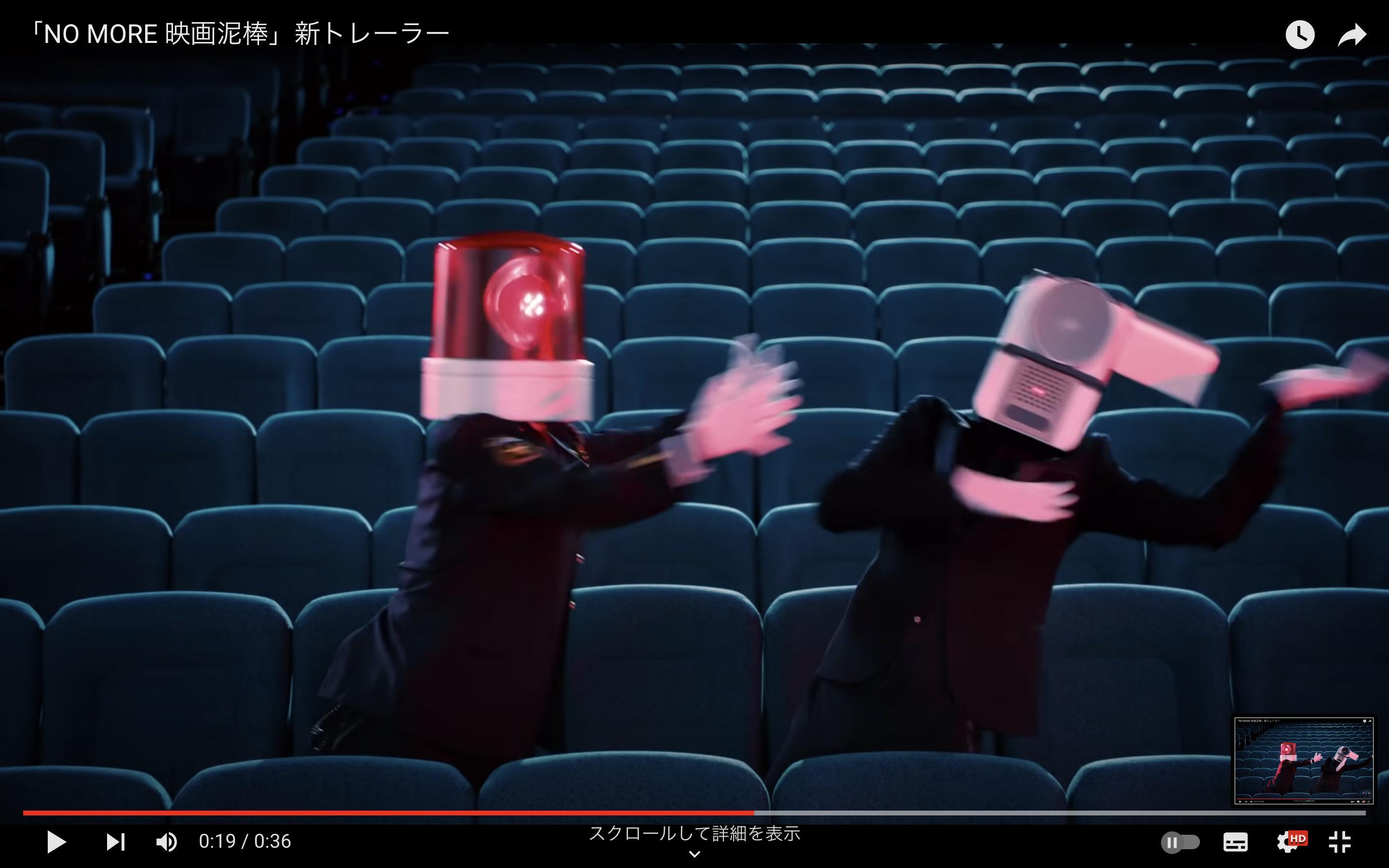no more kid: (975, 270, 1219, 460)
